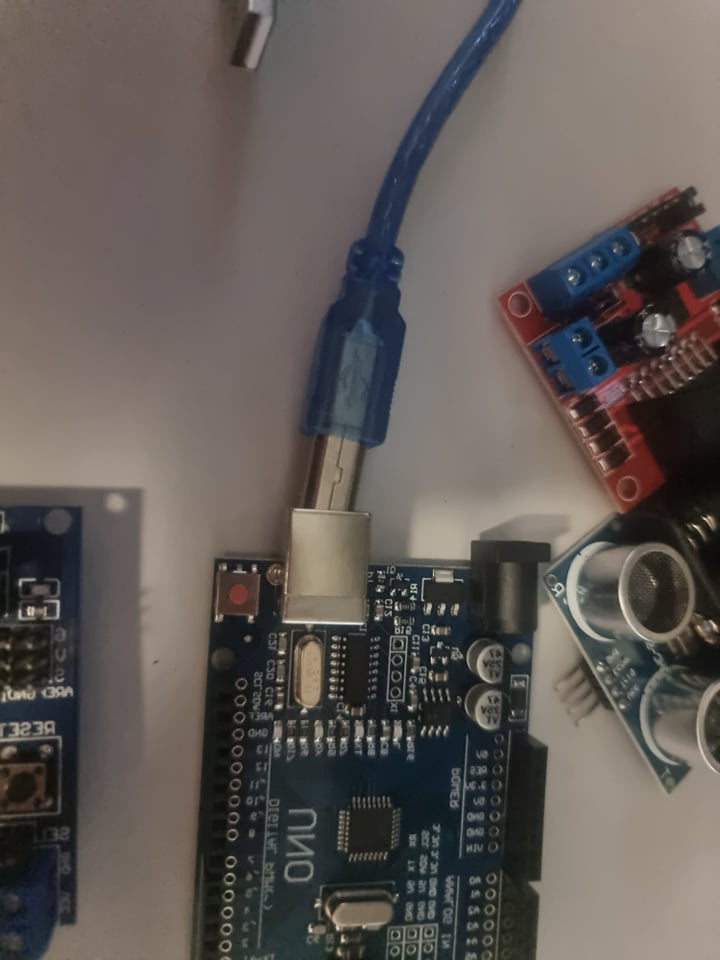5V EXPANSION: (0, 496, 82, 960)
MOTOR: (498, 173, 719, 513)
SENSOR: (548, 516, 719, 795)
UNO R3: (176, 508, 551, 960)
